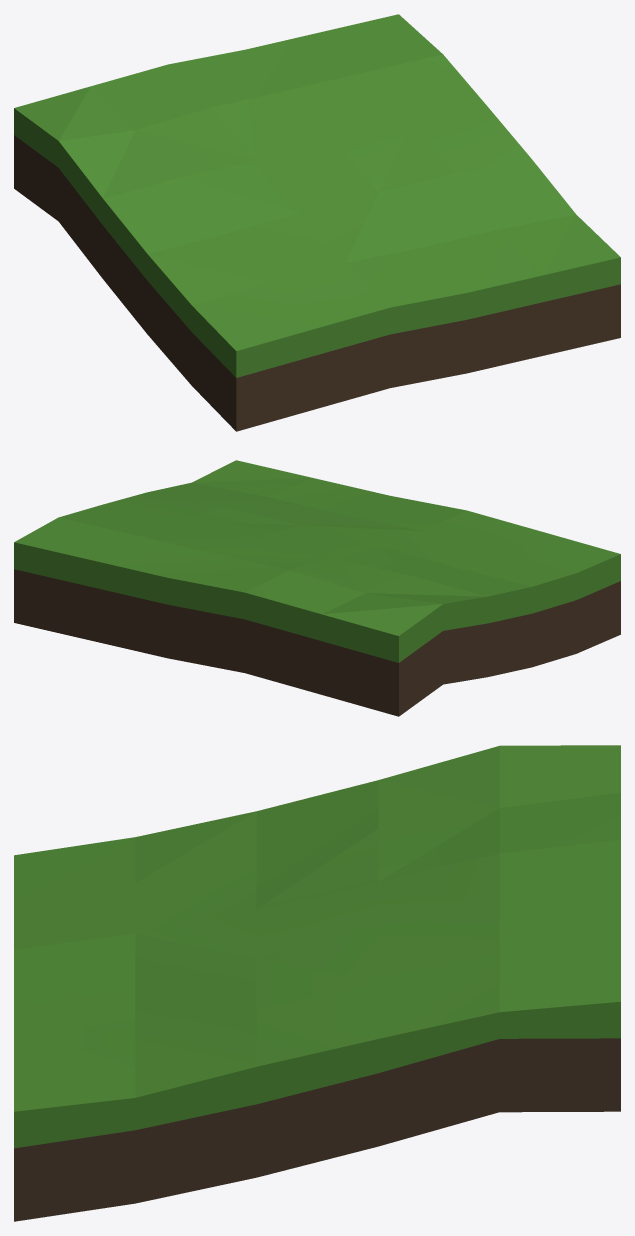
The model's file is terrains_terrain-world-slope2.fbx.
The picture shows the model from 3 angles, top to bottom: view 1: azimuth 30°, elevation 25°; view 2: azimuth 150°, elevation 25°; view 3: azimuth 270°, elevation 25°; orthographic projection. The views are drawn at different scales.
Visible parts, largest first — view 1: terrains_terrain_world_slope2; view 2: terrains_terrain_world_slope2; view 3: terrains_terrain_world_slope2.
Part boxes in pixels (bbox=[...]): terrains_terrain_world_slope2: bbox=[14, 14, 620, 431]; terrains_terrain_world_slope2: bbox=[14, 460, 620, 716]; terrains_terrain_world_slope2: bbox=[14, 745, 620, 1221].
Size of the model in its own units: 200 by 83 by 200.
